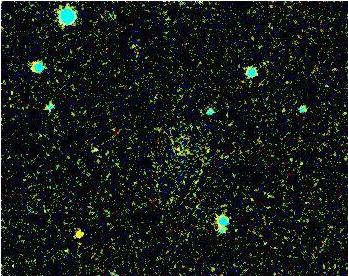star: (63, 219, 93, 249)
